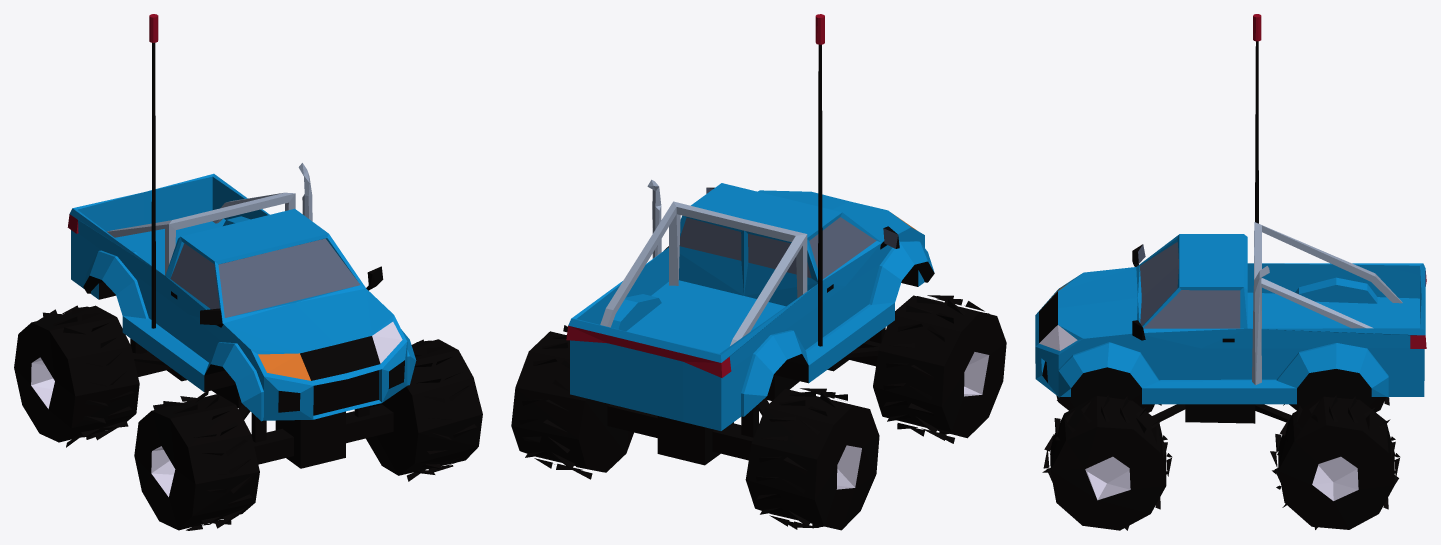
The model's file is CarFBX.fbx.
3 renders of one model, left to right at view 1: azimuth 30°, elevation 25°; view 2: azimuth 150°, elevation 25°; view 3: azimuth 270°, elevation 25°, orthographic. The views are drawn at different scales.
Parts seen in each view (by area): view 1: Monster Truck, Monster Truck wheel rear right, Monster Truck wheel front right, Monster Truck wheel front left, Ariel; view 2: Monster Truck, Monster Truck wheel front right, Monster Truck wheel rear right, Monster Truck wheel rear left, Ariel; view 3: Monster Truck, Monster Truck wheel rear left, Monster Truck wheel front left, Ariel, Monster Truck wheel rear right, Monster Truck wheel front right.
Part boxes in pixels (box(x1,y1,x2,y2)): Monster Truck: box(67, 163, 416, 468); Monster Truck wheel rear right: box(14, 305, 139, 447); Monster Truck wheel front right: box(134, 389, 259, 530); Monster Truck wheel front left: box(366, 339, 482, 481); Ariel: box(149, 14, 158, 328); Monster Truck: box(566, 179, 934, 465); Monster Truck wheel front right: box(873, 295, 1006, 443); Monster Truck wheel rear right: box(745, 388, 879, 530); Monster Truck wheel rear left: box(511, 325, 633, 479); Ariel: box(815, 14, 824, 346); Monster Truck: box(1035, 222, 1426, 423); Monster Truck wheel rear left: box(1270, 395, 1400, 529); Monster Truck wheel front left: box(1042, 395, 1172, 530); Ariel: box(1253, 14, 1261, 223); Monster Truck wheel rear right: box(1283, 384, 1389, 412); Monster Truck wheel front right: box(1056, 384, 1161, 412).
Bounding box in the file's own units: 447 × 650 × 549.
